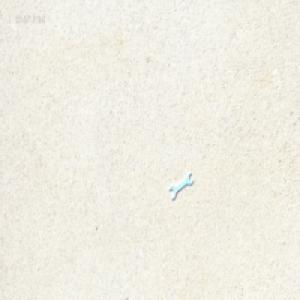Wrench: (167, 169, 191, 197)
